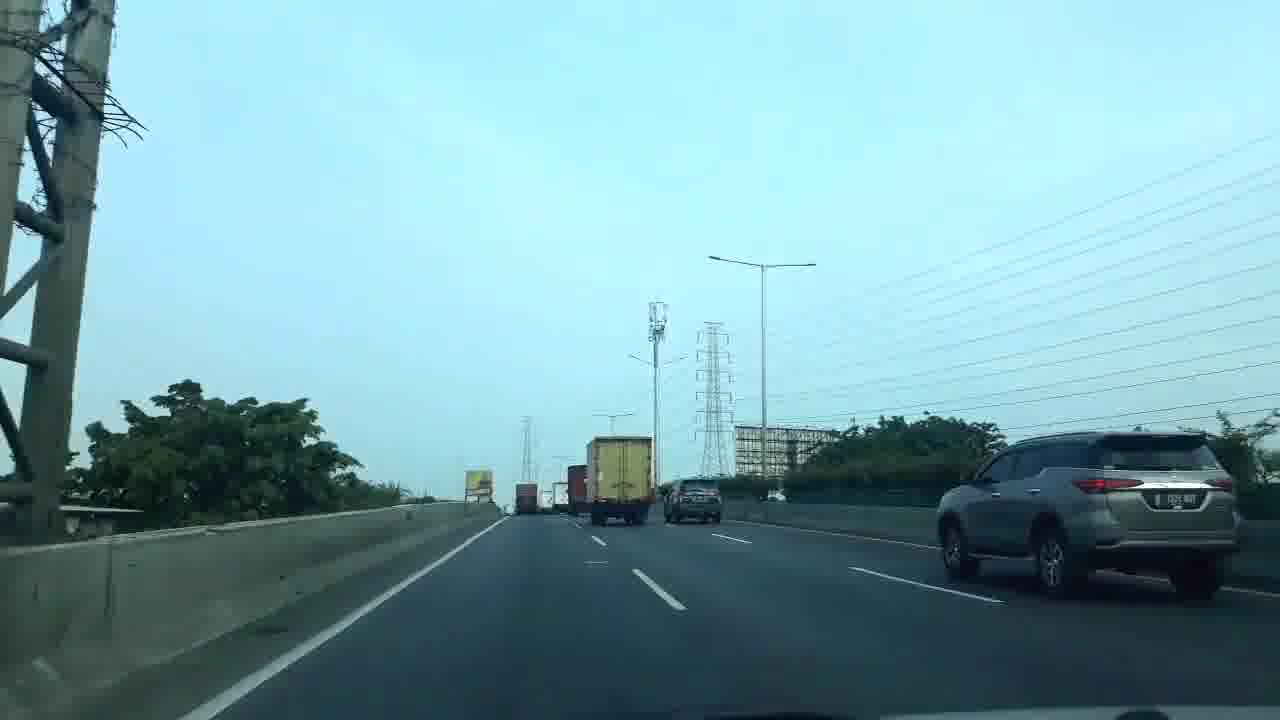plate_positive: (1152, 493, 1198, 509)
